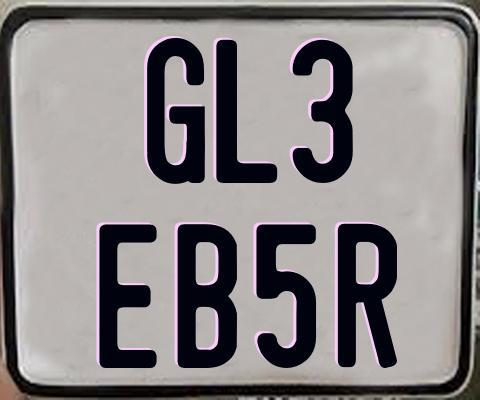3: (290, 37, 355, 180)
5: (254, 223, 319, 373)
B: (177, 223, 239, 370)
E: (98, 223, 159, 369)
G: (145, 37, 206, 189)
L: (213, 40, 277, 185)
R: (337, 224, 397, 370)
